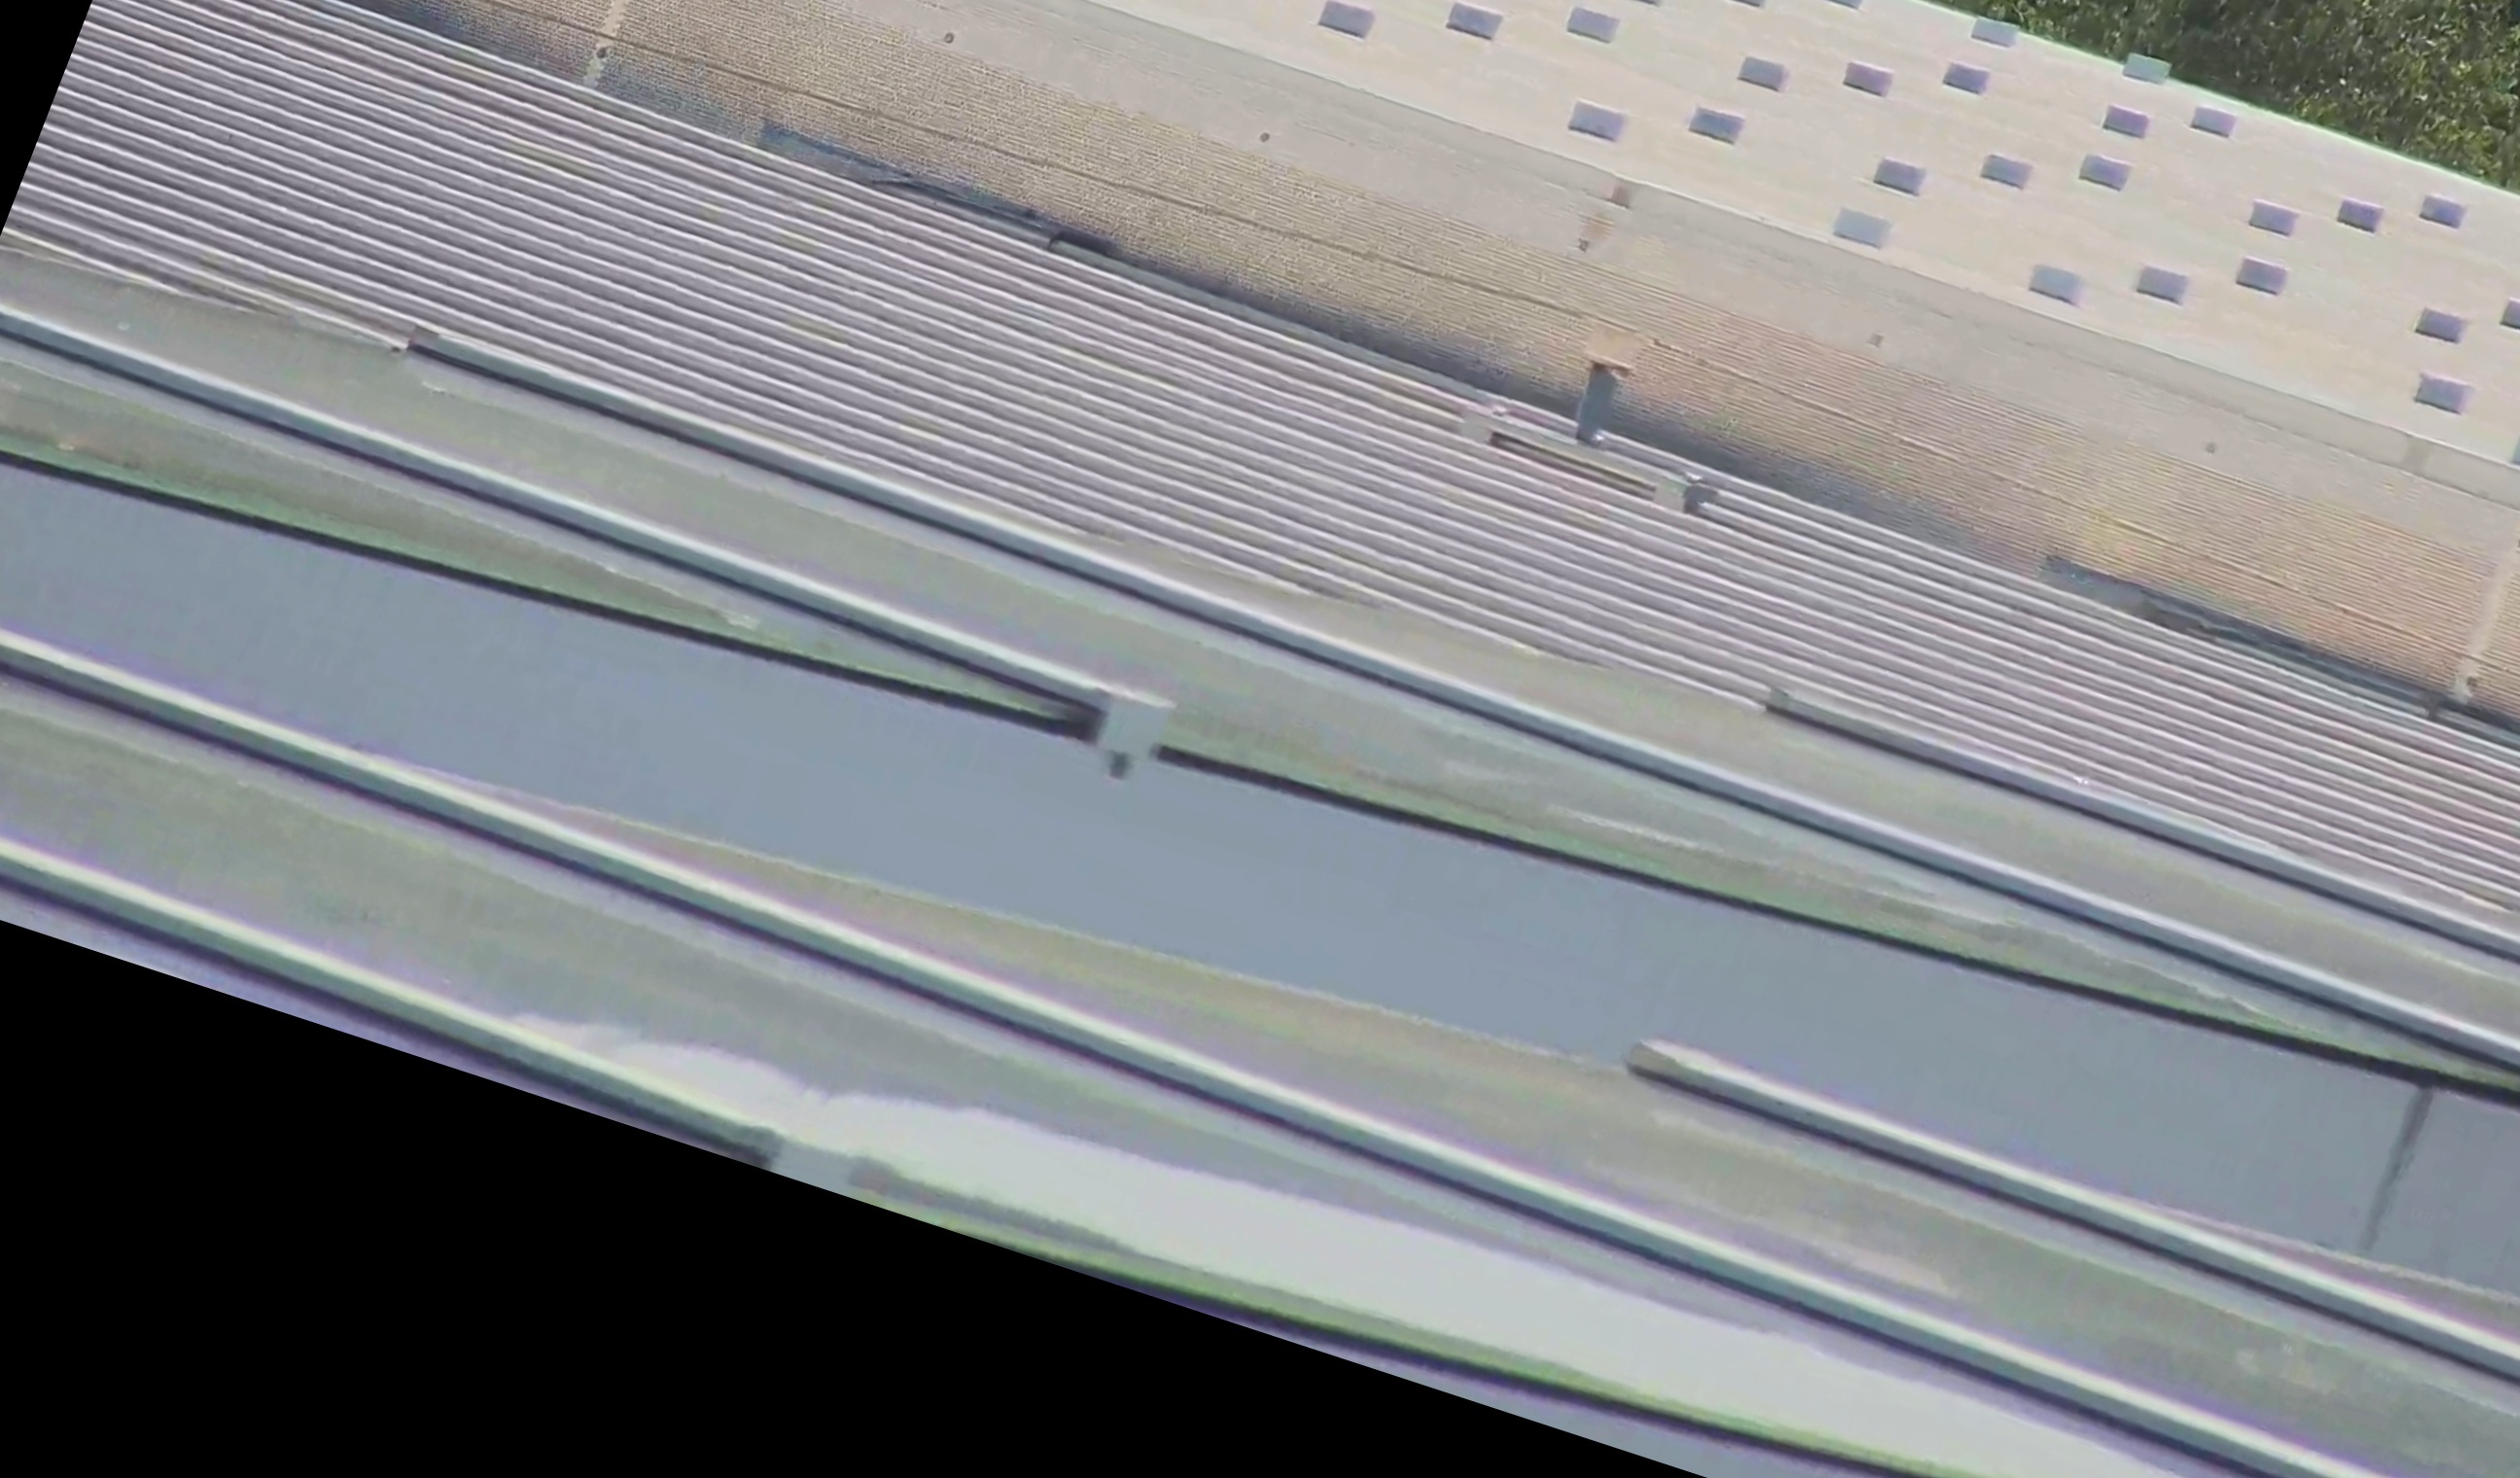Other: (1549, 343, 1653, 465)
